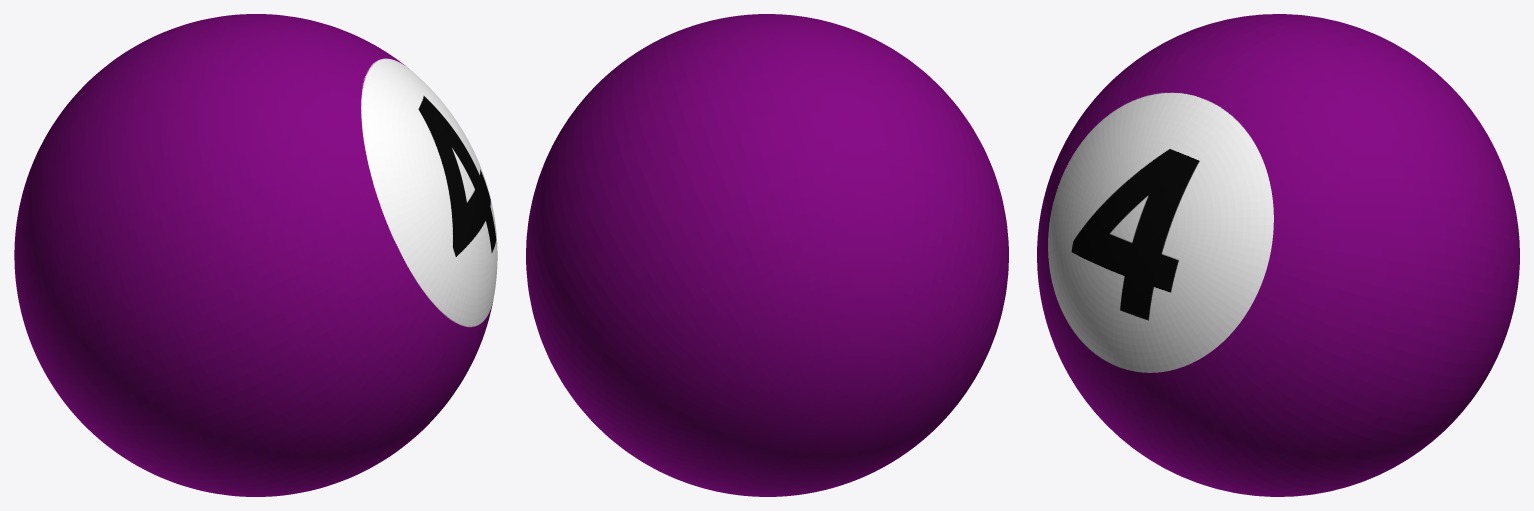
3 views of the same model, side by side, from view 1: azimuth 30°, elevation 25°; view 2: azimuth 150°, elevation 25°; view 3: azimuth 270°, elevation 25° (orthographic).
Parts seen in each view (by area): view 1: Sphere; view 2: Sphere; view 3: Sphere.
Boxes of the visible parts, x1=… form: Sphere: x1=14, y1=14, x2=497, y2=496; Sphere: x1=526, y1=14, x2=1008, y2=496; Sphere: x1=1037, y1=14, x2=1519, y2=496.
Bounding box in the file's own units: 3.7 × 3.7 × 3.7.
1 material, 1 textured.
